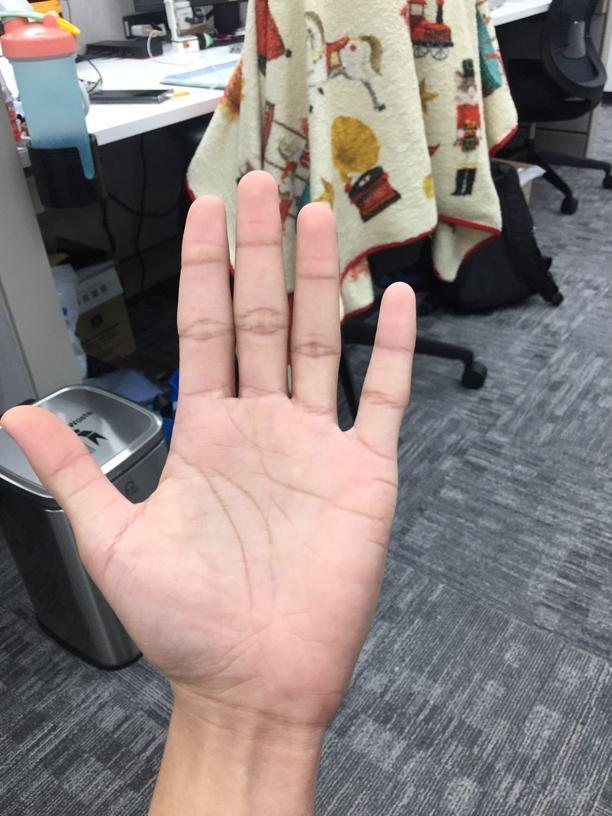hand: (0, 167, 419, 736)
